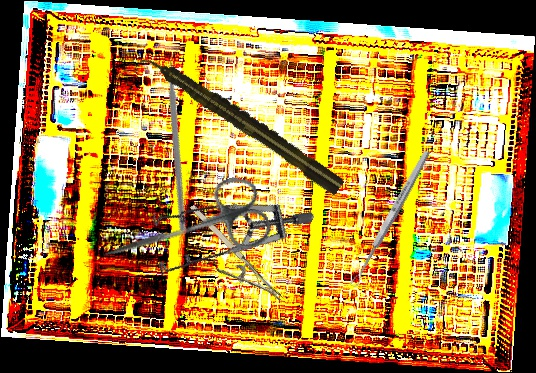Chopper: (92, 44, 271, 233)
Handpiece: (138, 46, 346, 198)
Iris Scissors: (92, 170, 276, 293)
Needle Holder: (173, 201, 286, 321)
Speculum: (132, 155, 316, 323)
Surgical Spoon: (348, 149, 432, 289)
